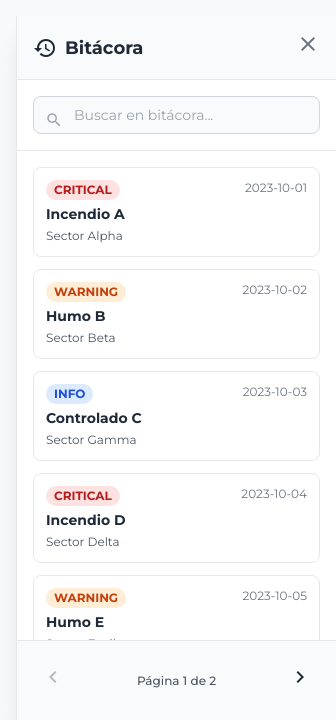
SidebarRight - Lógica de Filtrado y Paginación › Filtra eventos por ubicación (Case Insensitive)
Buscamos "beta" en minúsculas, debe encontrar "Sector Beta"
In the field with placeholder "Buscar en bitácora...": (176, 115) [33,96,320,134], type "beta"
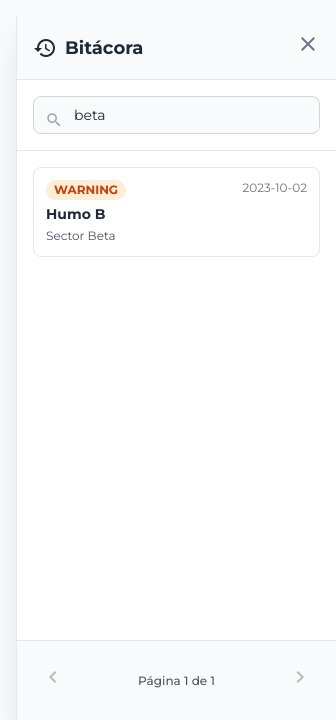
Check: the heading "Humo B" is shown, box [46,205,106,223]
Check: the heading "Incendio A" is gone
